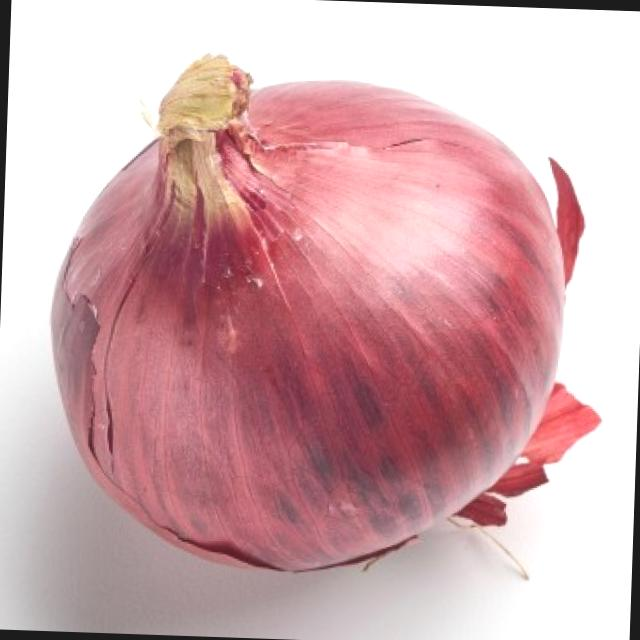onion: (21, 60, 624, 607)
